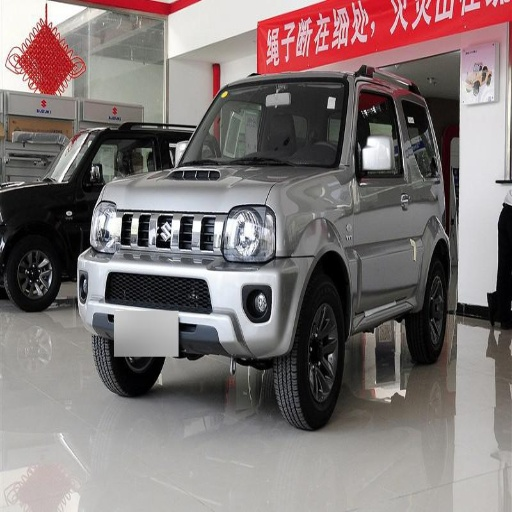front_bumper: (78, 209, 313, 363)
front_glass: (182, 79, 348, 167)
front_left_door: (353, 85, 408, 312)
front_right_light: (90, 199, 118, 253)
